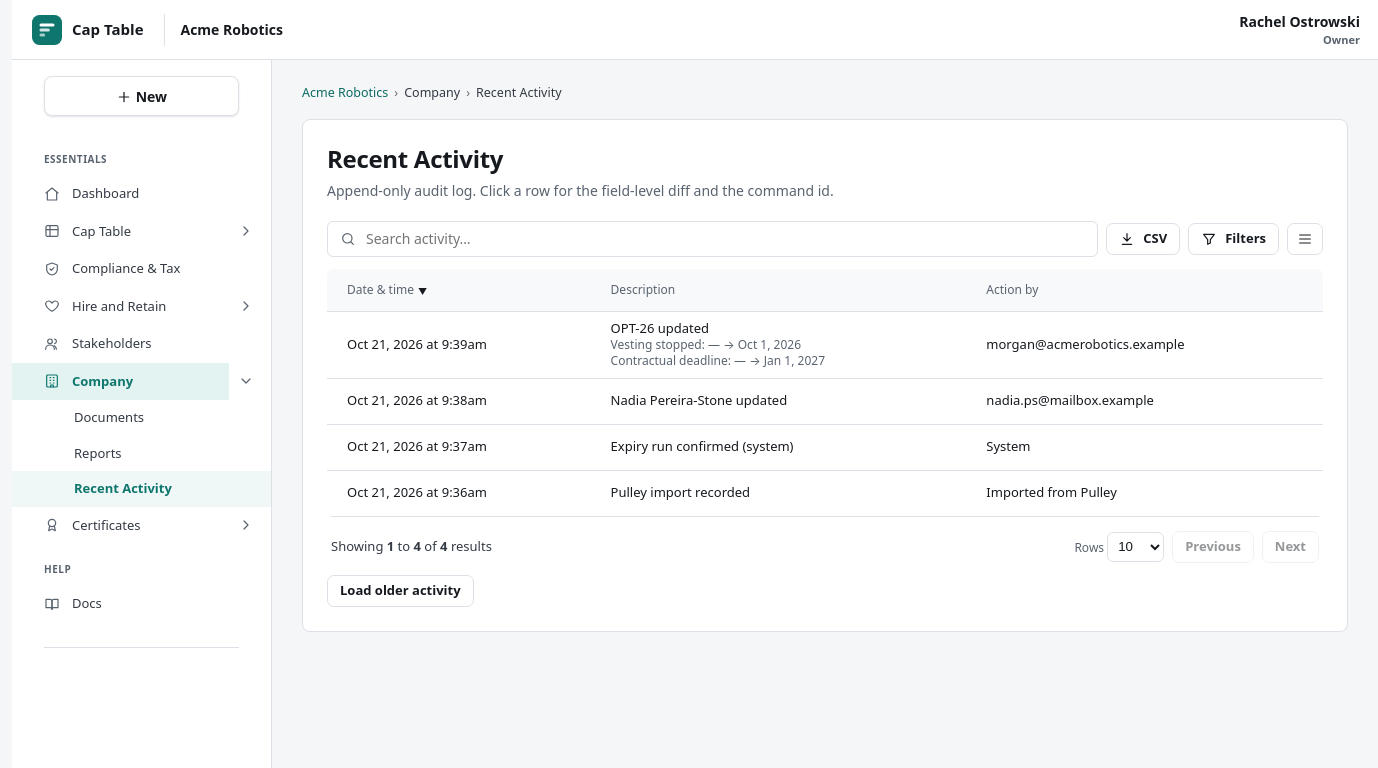
Test case: recent activity › filters by actor type and loads older activity by cursor
Click the button "Filters".
click(1234, 239)  # box x1=1188 y1=223 x2=1279 y2=255
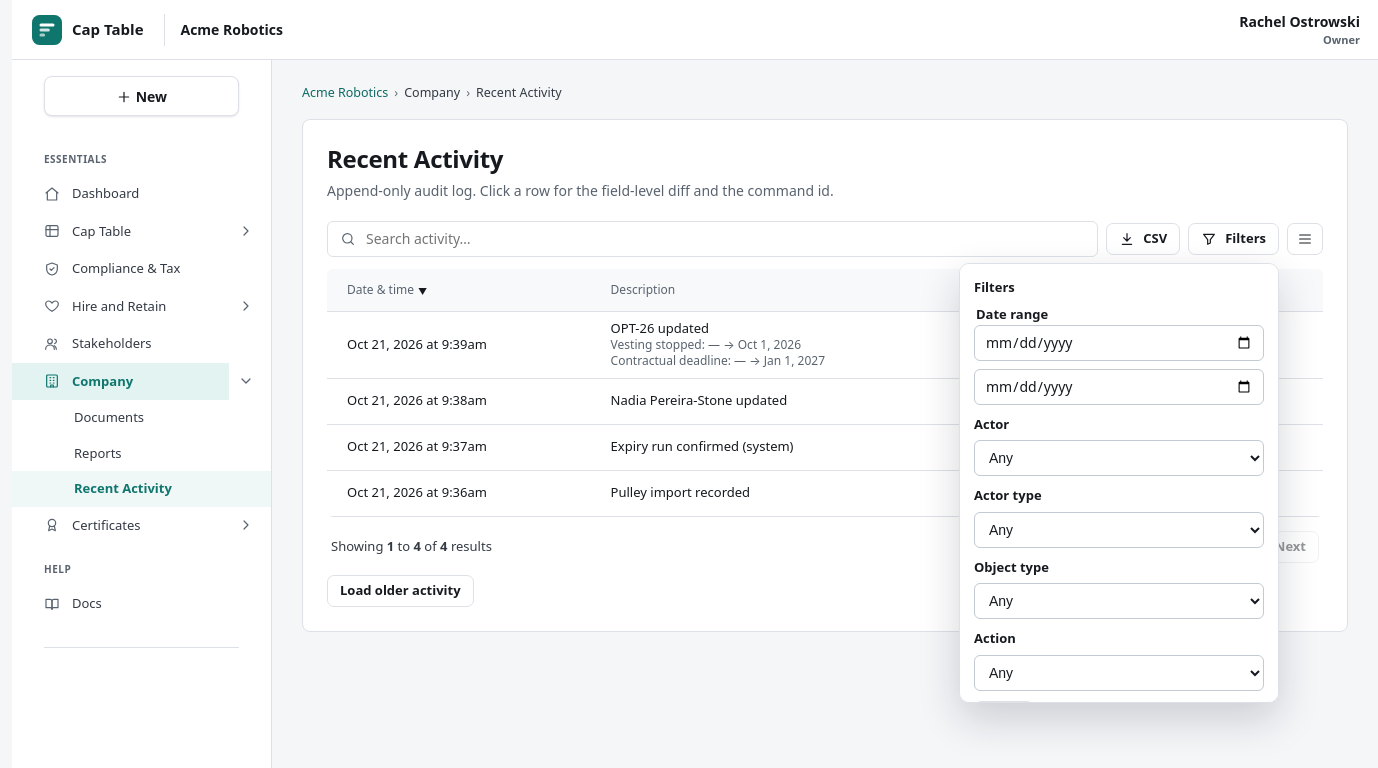
Select "System / import" in the dropdown labelled "Actor type" at (1119, 530), box x1=974 y1=512 x2=1264 y2=548
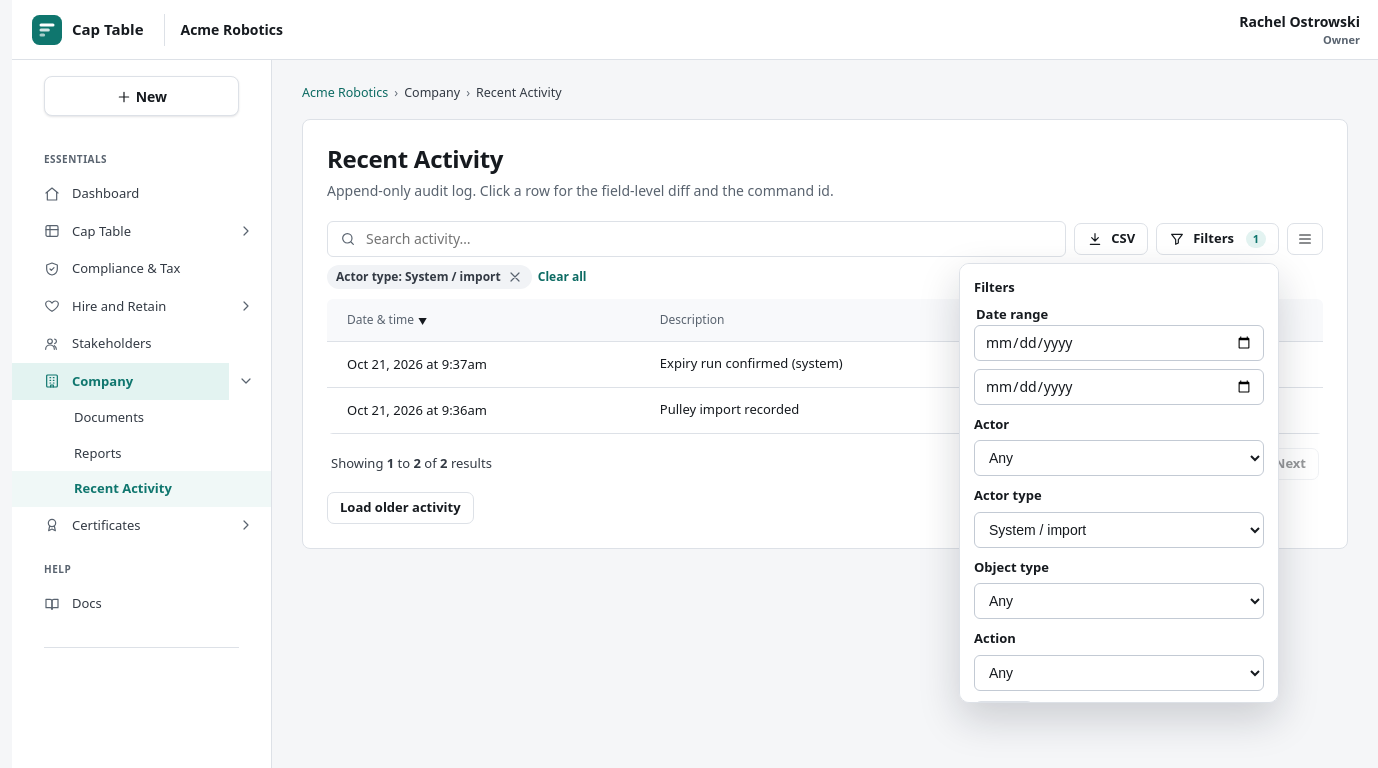
Expected: the number of rows is 3, x1=327 y1=299 x2=1323 y2=342; x1=327 y1=342 x2=1323 y2=388; x1=327 y1=388 x2=1323 y2=434
Click the button "Clear all".
click(562, 277)  # box x1=538 y1=268 x2=587 y2=286
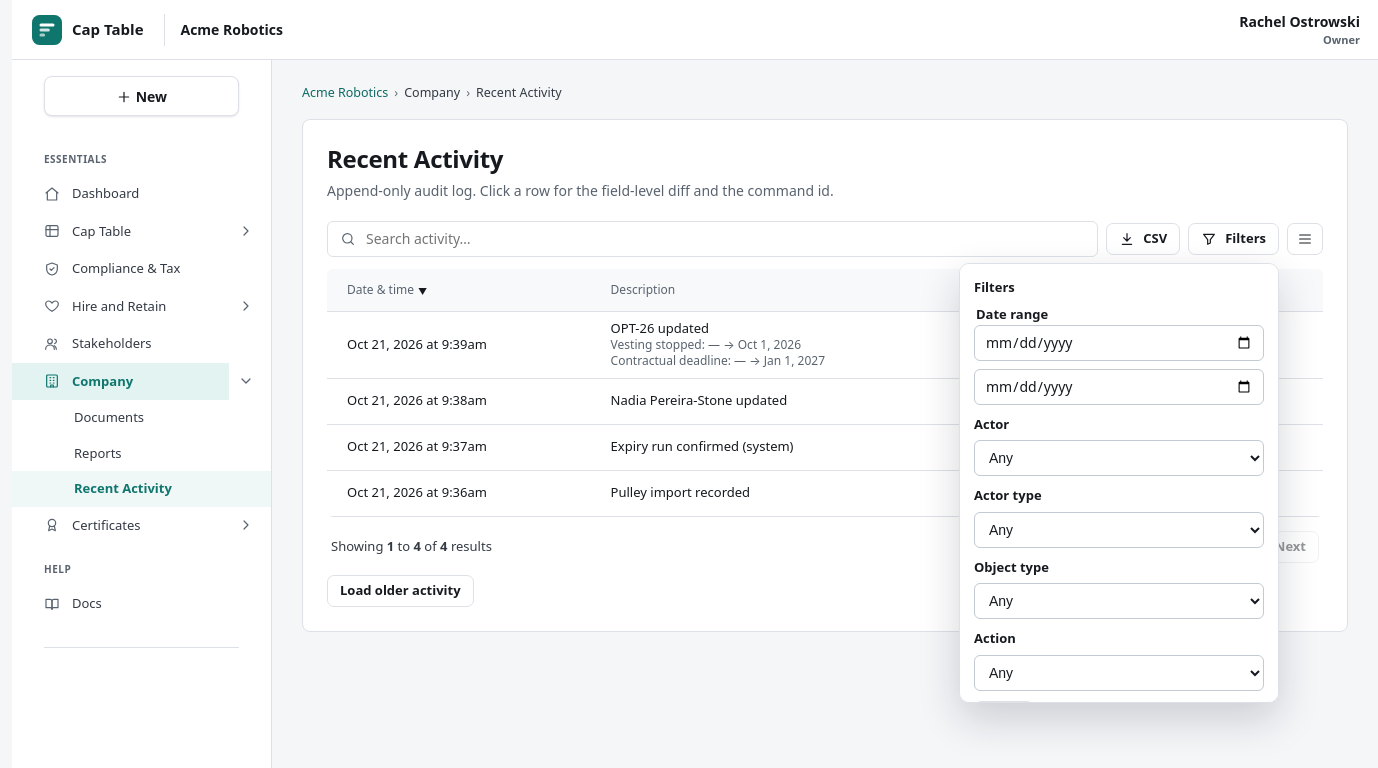
Click the button "Load older activity".
click(400, 591)  # box x1=327 y1=575 x2=474 y2=607
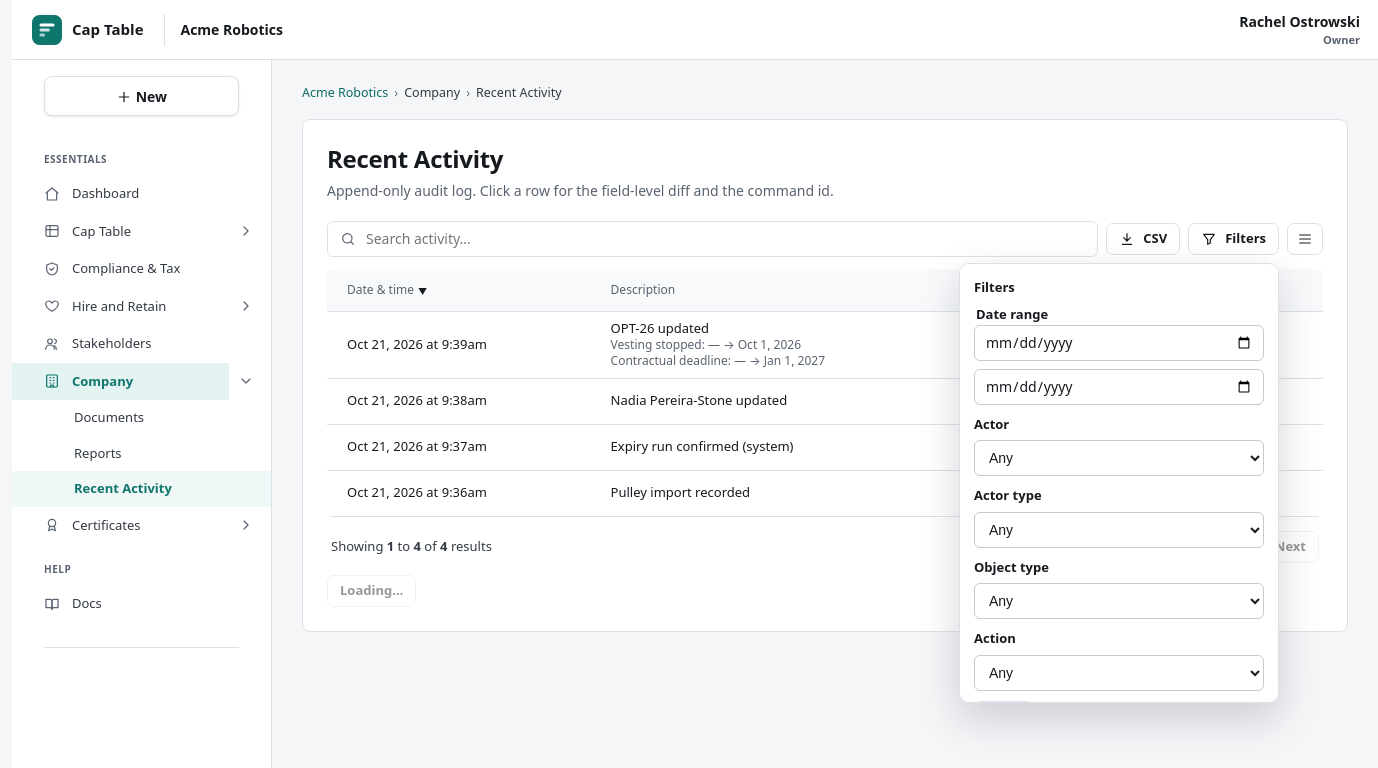
Type "Older" into the search field named "Search audit log".
click(725, 239); type("Older")  # box x1=364 y1=227 x2=1085 y2=250
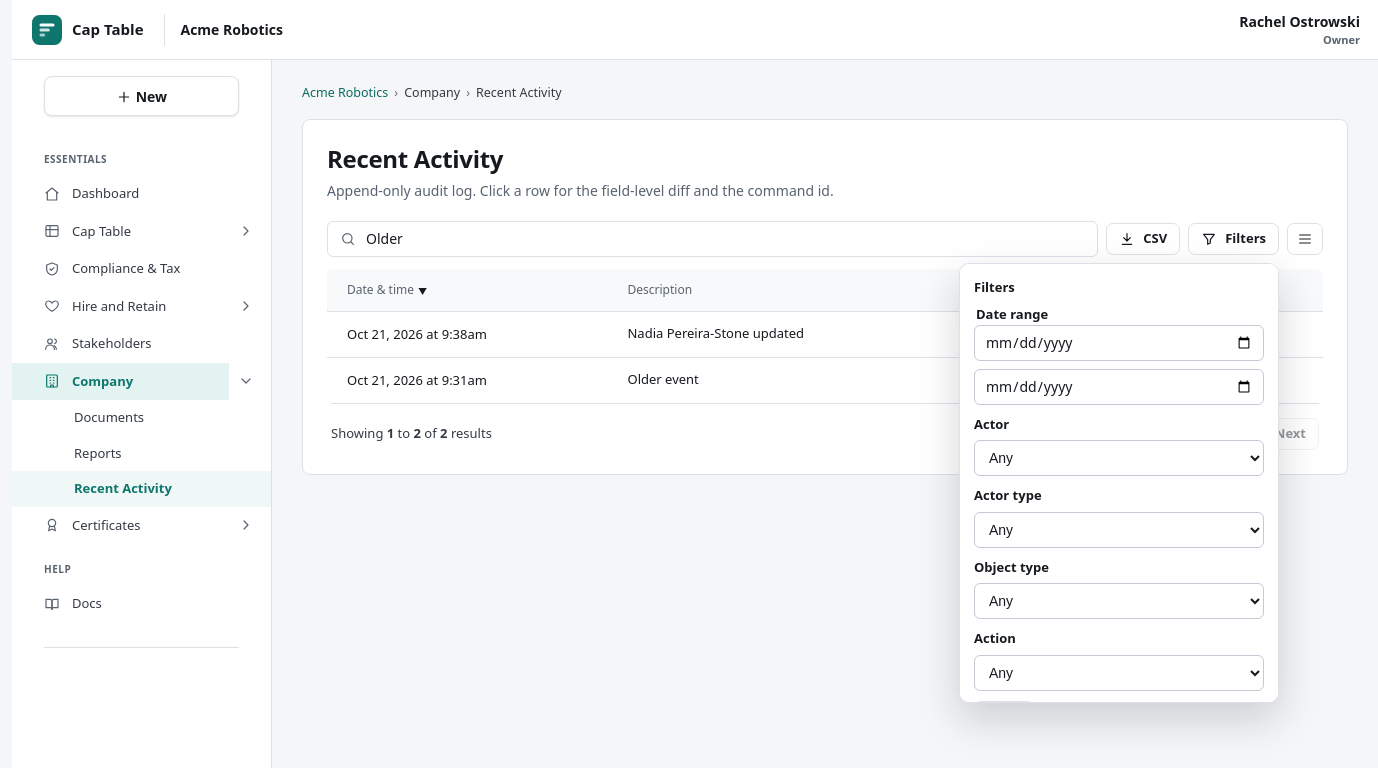
Expected: the button "Load older activity" is not shown
Expected: the text "Older event" is shown, x1=628 y1=370 x2=699 y2=388
